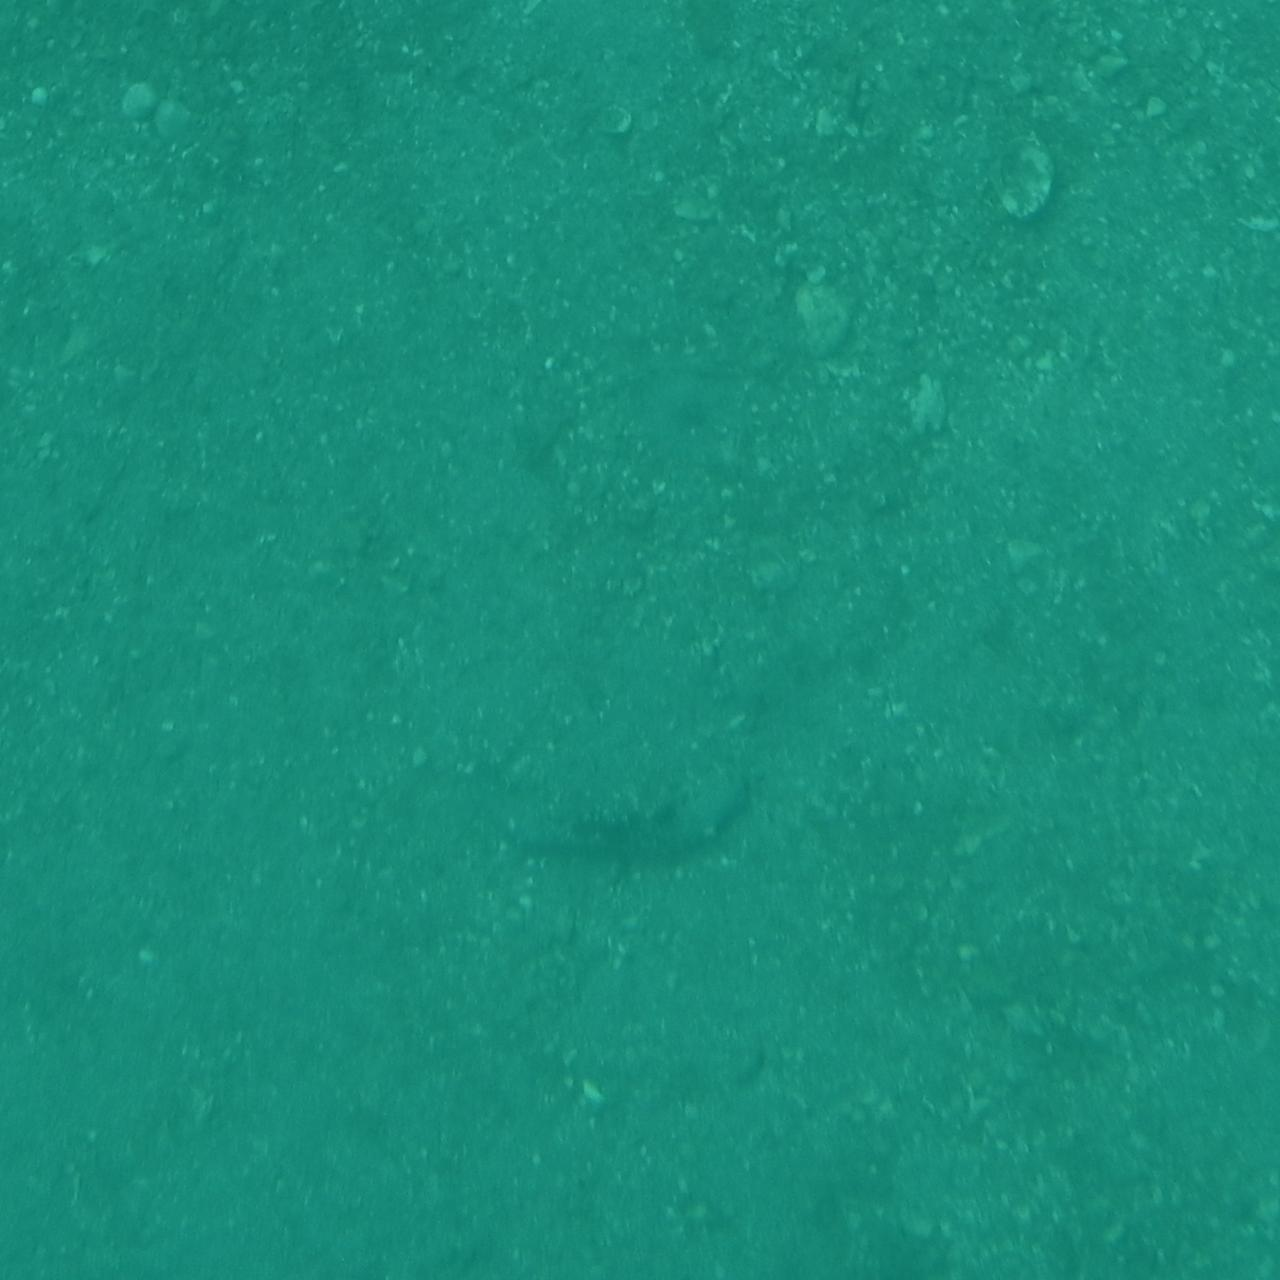Holothuria tubulosa: (498, 742, 782, 874)
